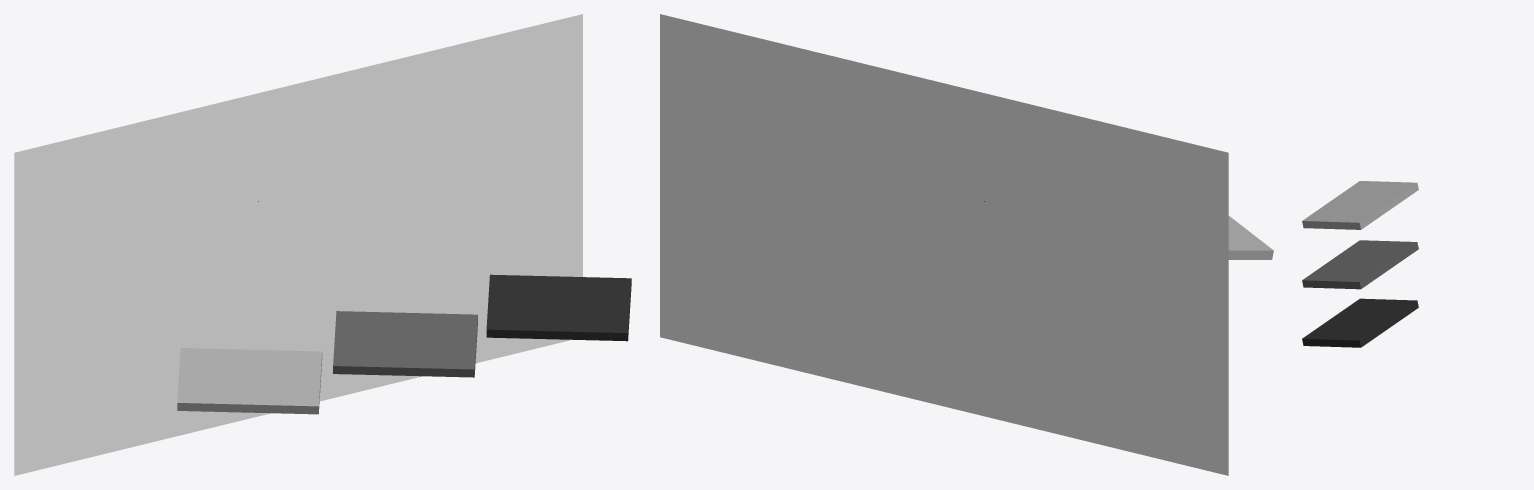
File: samples 2.glb
3 views of the same model, side by side, from view 1: azimuth 30°, elevation 25°; view 2: azimuth 150°, elevation 25°; view 3: azimuth 270°, elevation 25° (orthographic). The views are drawn at different scales.
Parts seen in each view (by area): view 1: mesh_id1, mesh_id50, mesh_id39, mesh_id33; view 2: mesh_id1, mesh_id50; view 3: mesh_id39, mesh_id50, mesh_id33.
Boxes of the visible parts, x1,y1,x2,y2 form: mesh_id1: (14,14,582,475); mesh_id50: (177,348,322,414); mesh_id39: (486,274,631,341); mesh_id33: (333,311,477,377); mesh_id1: (660,14,1228,475); mesh_id50: (1228,216,1273,259); mesh_id39: (1302,298,1418,347); mesh_id50: (1302,181,1418,229); mesh_id33: (1302,240,1418,289).
Bounding box in the file's own units: 3.01 × 1.63 × 1.3.
4 materials, 4 textured.
